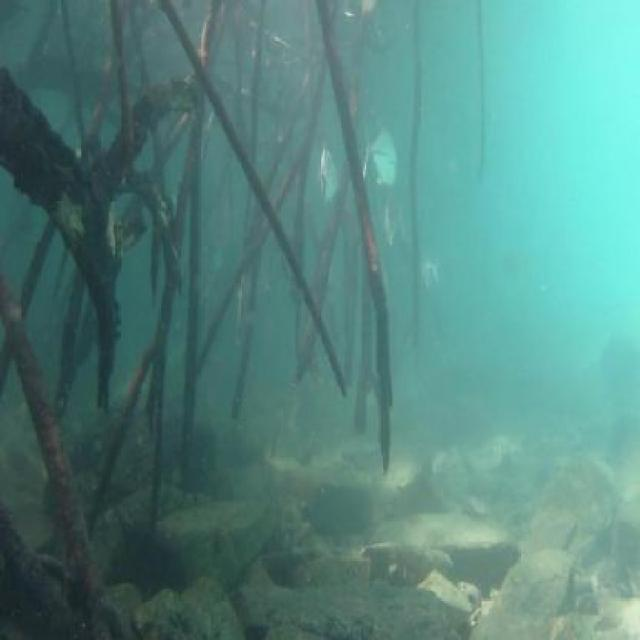Caranx_sexfasciatus_juvenile: (364, 108, 402, 188), (316, 125, 344, 221), (416, 244, 450, 305), (385, 191, 413, 258)
